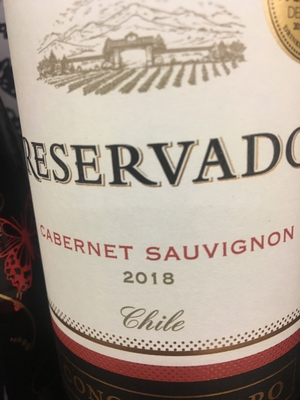reservado cabernet sauvignon: (8, 1, 300, 388)
